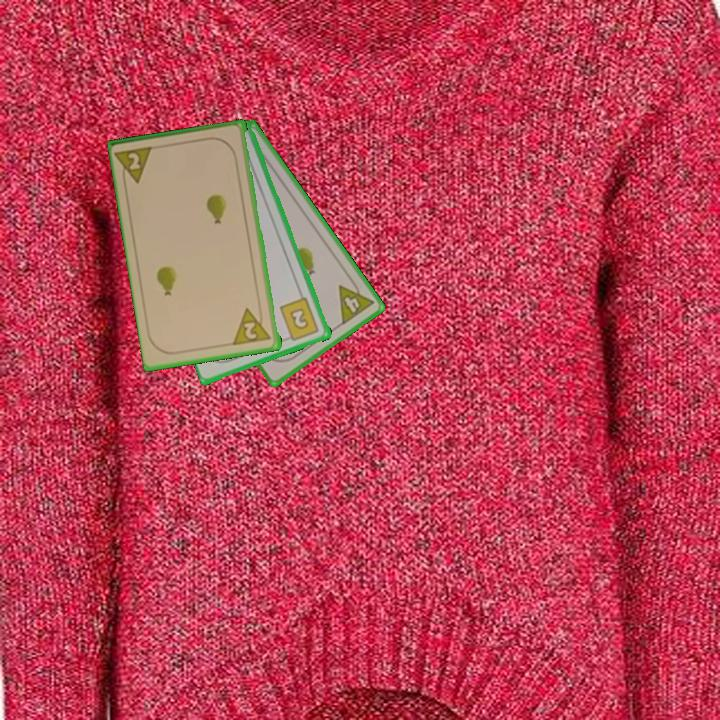2b: (277, 294, 322, 344)
2p: (231, 303, 275, 348), (114, 143, 158, 188)
4p: (335, 274, 377, 328)
